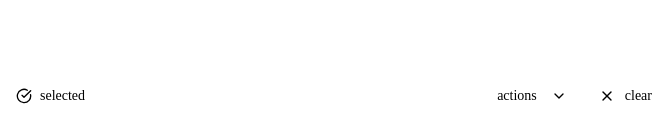
BulkActionBar › should open actions dropdown
Step 1. Click the button "actions" → (532, 96), box [485, 80, 579, 112]
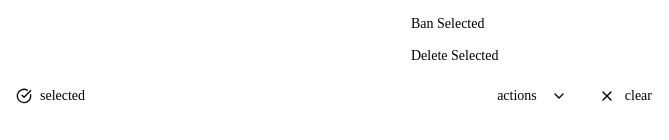
Result: the menu item "Ban Selected" is shown at [411, 16, 484, 31]
Result: the menu item "Delete Selected" is shown at [411, 48, 498, 63]
